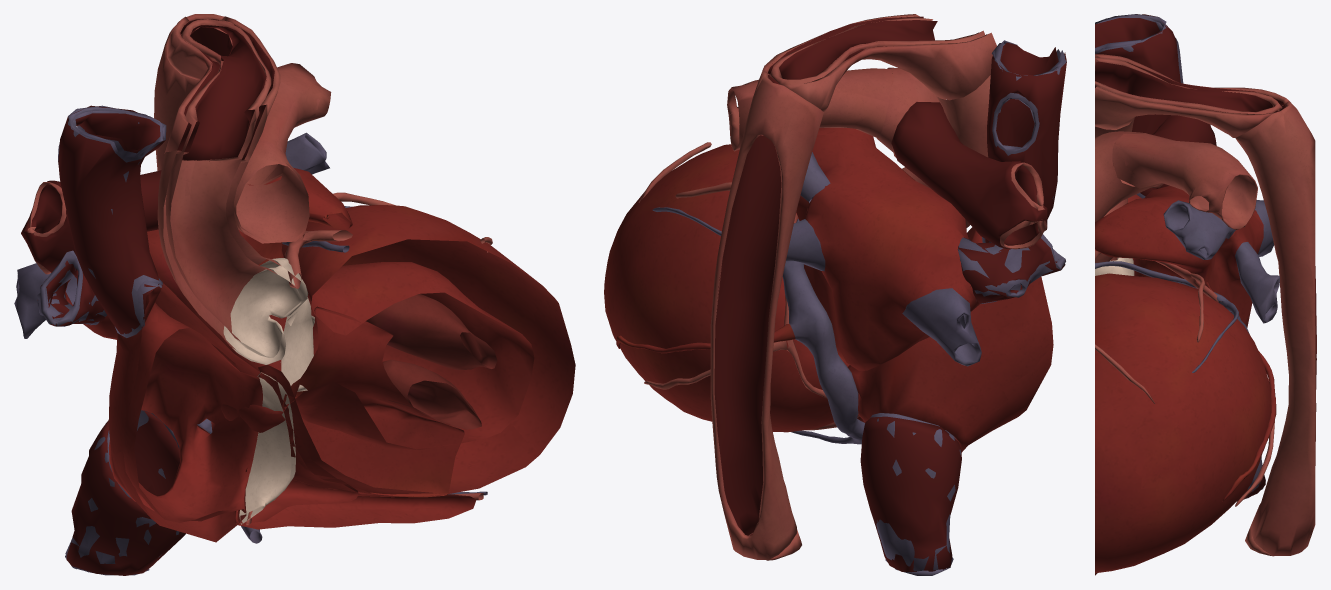
The model's file is heartf-cut.a31ba0db.glb.
3 views of the same model, side by side, from view 1: azimuth 30°, elevation 25°; view 2: azimuth 150°, elevation 25°; view 3: azimuth 270°, elevation 25° (orthographic). The views are drawn at different scales.
Parts seen in each view (by area): view 1: F_Circulatory_Ventricle_Left, F_Circulatory_CardiacAtrium_Right, F_Circulatory_SuperiorVenaCava, F_Circulatory_InterventricularSeptum, F_Circulatory_AscendingAorta, F_Circulatory_AorticArch, F_Circulatory_InferiorVenaCavaA, F_Circulatory_Ventricle_Right, F_Circulatory_PapillaryMuscleOfHeartAntlat, F_Circulatory_AorticValve, F_Circulatory_PulmonaryTrunk, F_Circulatory_CardiacAtrium_Left (+9 smaller); view 2: F_Circulatory_DescendingAortaA, F_Circulatory_Ventricle_Left, F_Circulatory_CardiacAtrium_Left, F_Circulatory_CardiacAtrium_Right, F_Circulatory_InferiorVenaCavaA, F_Circulatory_AorticArch, F_Circulatory_PulmonaryArtery_Right, F_Circulatory_SuperiorVenaCava, F_Circulatory_CoronarySinus, F_Circulatory_PulmonaryArtery_Left, F_Circulatory_PulmonaryVeinRSup, F_Circulatory_PulmonaryVeinRInf (+5 smaller); view 3: F_Circulatory_Ventricle_Left, F_Circulatory_DescendingAortaA, F_Circulatory_AorticArch, F_Circulatory_CardiacAtrium_Left, F_Circulatory_PulmonaryArtery_Left, F_Circulatory_SuperiorVenaCava, F_Circulatory_PulmonaryVeinLSup, F_Circulatory_PulmonaryTrunk, F_Circulatory_PulmonaryVeinLInf, F_Circulatory_PulmonaryArtery_Right, F_Circulatory_PosteriorVeinOfVentricle_Left, F_Circulatory_GreatCardiacVein (+8 smaller).
Part boxes in pixels (left/top/right/bottom): F_Circulatory_Ventricle_Left: left=221, top=205, right=575, bottom=497; F_Circulatory_CardiacAtrium_Right: left=108, top=283, right=262, bottom=542; F_Circulatory_SuperiorVenaCava: left=58, top=105, right=166, bottom=337; F_Circulatory_InterventricularSeptum: left=282, top=306, right=464, bottom=497; F_Circulatory_AscendingAorta: left=157, top=150, right=280, bottom=349; F_Circulatory_AorticArch: left=164, top=16, right=280, bottom=162; F_Circulatory_InferiorVenaCavaA: left=65, top=410, right=185, bottom=575; F_Circulatory_Ventricle_Right: left=235, top=364, right=476, bottom=529; F_Circulatory_PapillaryMuscleOfHeartAntlat: left=366, top=294, right=497, bottom=370; F_Circulatory_AorticValve: left=223, top=258, right=308, bottom=364; F_Circulatory_PulmonaryTrunk: left=234, top=138, right=309, bottom=243; F_Circulatory_CardiacAtrium_Left: left=64, top=168, right=352, bottom=370; F_Circulatory_DescendingAortaA: left=710, top=71, right=823, bottom=559; F_Circulatory_Ventricle_Left: left=604, top=144, right=849, bottom=432; F_Circulatory_CardiacAtrium_Left: left=796, top=128, right=980, bottom=370; F_Circulatory_CardiacAtrium_Right: left=847, top=227, right=1053, bottom=452; F_Circulatory_InferiorVenaCavaA: left=860, top=413, right=961, bottom=573; F_Circulatory_AorticArch: left=762, top=14, right=996, bottom=112; F_Circulatory_PulmonaryArtery_Right: left=891, top=102, right=1047, bottom=249; F_Circulatory_SuperiorVenaCava: left=982, top=40, right=1066, bottom=242; F_Circulatory_CoronarySinus: left=782, top=261, right=864, bottom=444; F_Circulatory_PulmonaryArtery_Left: left=727, top=68, right=892, bottom=151; F_Circulatory_PulmonaryVeinRSup: left=957, top=234, right=1065, bottom=303; F_Circulatory_PulmonaryVeinRInf: left=902, top=288, right=981, bottom=366; F_Circulatory_Ventricle_Left: left=1095, top=273, right=1271, bottom=573; F_Circulatory_DescendingAortaA: left=1235, top=101, right=1316, bottom=555; F_Circulatory_AorticArch: left=1095, top=54, right=1288, bottom=137; F_Circulatory_CardiacAtrium_Left: left=1095, top=186, right=1263, bottom=327; F_Circulatory_PulmonaryArtery_Left: left=1112, top=133, right=1257, bottom=230; F_Circulatory_SuperiorVenaCava: left=1095, top=14, right=1183, bottom=198; F_Circulatory_PulmonaryVeinLSup: left=1163, top=200, right=1235, bottom=259; F_Circulatory_PulmonaryTrunk: left=1095, top=131, right=1159, bottom=221; F_Circulatory_PulmonaryVeinLInf: left=1235, top=242, right=1279, bottom=323; F_Circulatory_PulmonaryArtery_Right: left=1113, top=115, right=1216, bottom=188; F_Circulatory_PosteriorVeinOfVentricle_Left: left=1222, top=350, right=1276, bottom=501; F_Circulatory_GreatCardiacVein: left=1095, top=261, right=1225, bottom=300.
Bounding box in the file's own units: 0.1559 × 0.1503 × 0.0687.
3 materials, 2 textured.
